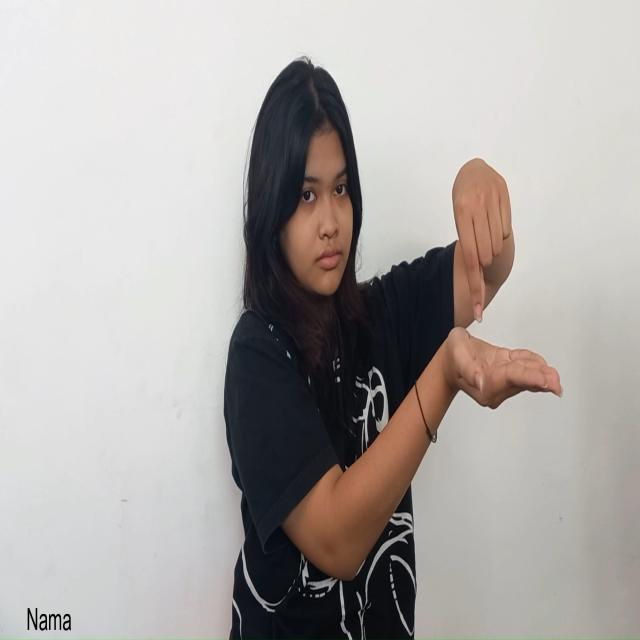Nama -BISINDO-: (446, 157, 562, 410)
